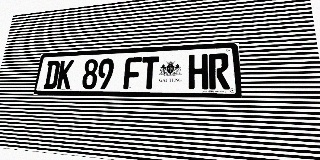8: (81, 59, 99, 89)
9: (96, 58, 115, 89)
D: (43, 60, 61, 89)
F: (123, 57, 142, 89)
H: (188, 54, 208, 89)
K: (56, 60, 74, 89)
R: (208, 53, 230, 89)
T: (140, 56, 159, 89)
